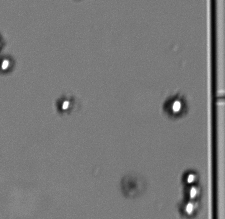Dead Cell: (120, 172, 145, 197)
Living Cell: (164, 94, 187, 119), (179, 183, 204, 201), (55, 94, 75, 115), (178, 200, 202, 217), (181, 168, 201, 186), (1, 54, 16, 75)
